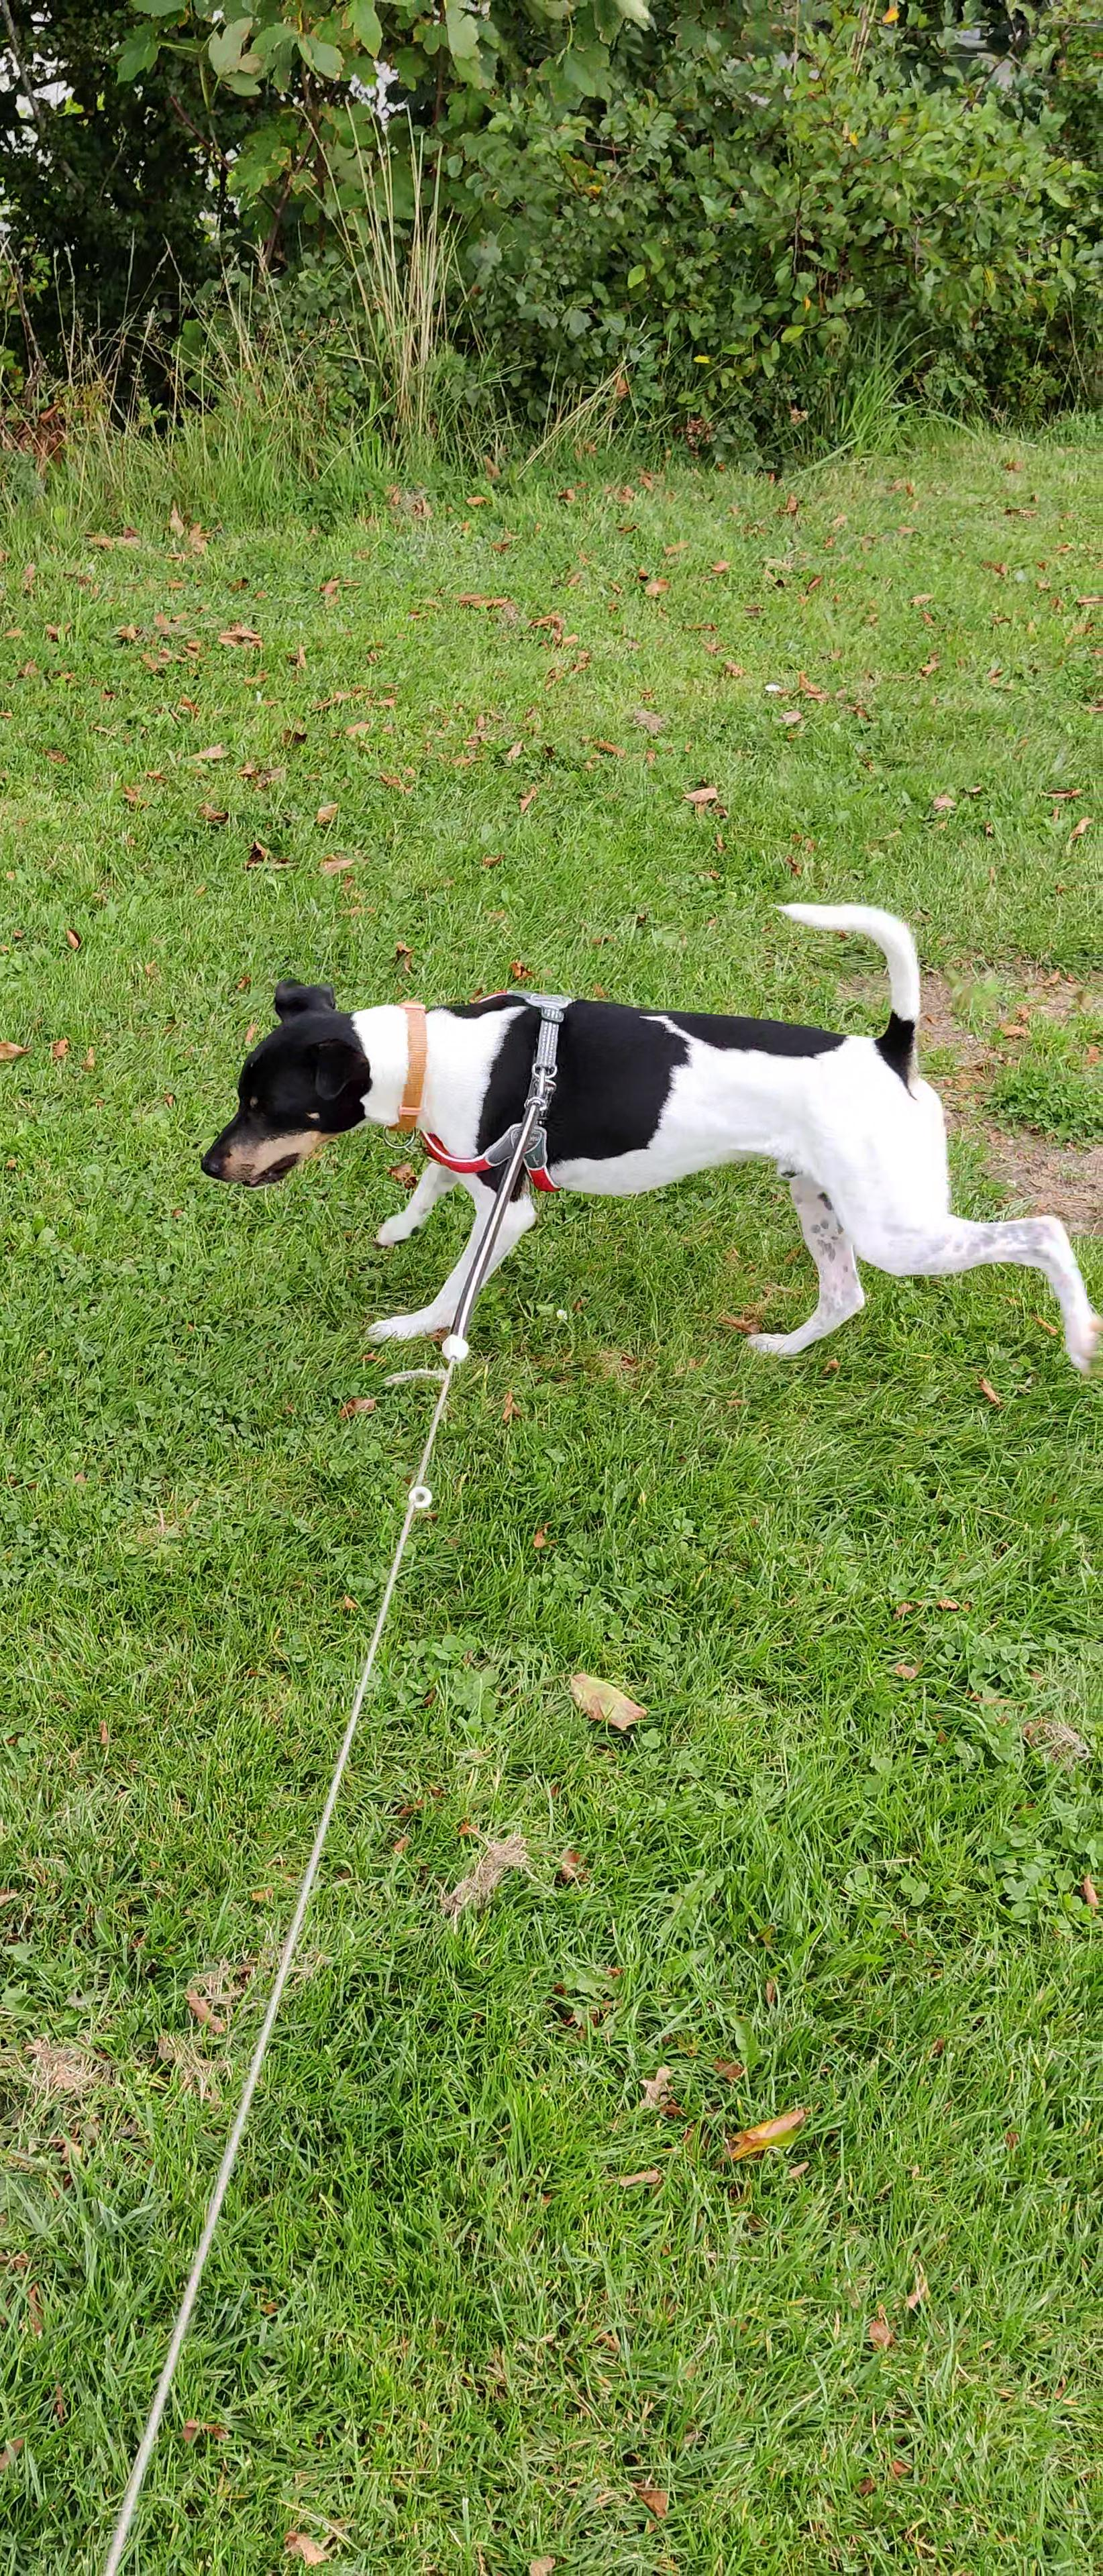Dog: (182, 894, 1103, 1375)
